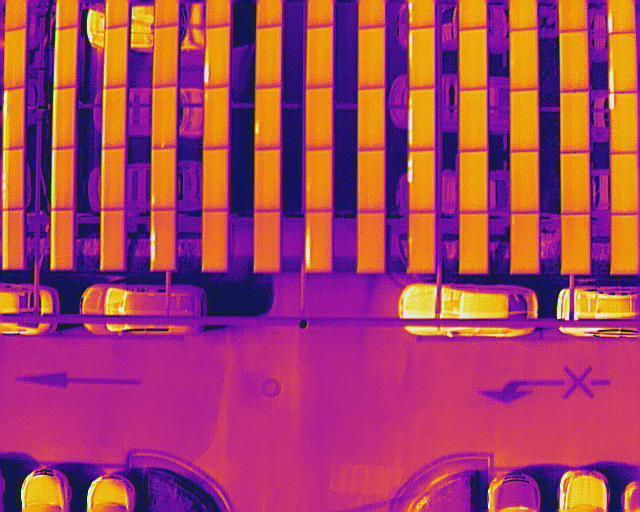Cell: (254, 84, 280, 151)
No-Anomaly: (510, 151, 540, 214), (509, 27, 538, 91), (358, 149, 386, 215), (560, 152, 589, 215), (510, 212, 539, 274), (459, 151, 487, 214), (610, 153, 638, 216), (510, 90, 538, 152), (561, 213, 589, 275), (459, 88, 486, 152), (561, 92, 589, 153), (560, 31, 588, 92), (254, 209, 281, 272), (459, 27, 486, 90), (150, 147, 176, 212), (306, 148, 332, 213), (358, 88, 385, 150), (610, 214, 637, 276), (357, 212, 384, 273), (203, 149, 229, 212), (306, 25, 332, 88), (307, 85, 332, 150), (153, 23, 178, 88), (202, 212, 229, 272), (459, 212, 486, 272), (409, 211, 435, 273), (358, 28, 384, 90), (204, 86, 229, 150), (409, 26, 434, 90), (100, 209, 126, 270), (102, 85, 126, 150), (52, 85, 76, 150), (104, 24, 128, 89), (256, 25, 281, 86), (254, 151, 279, 210), (101, 149, 125, 210), (152, 86, 175, 149), (54, 25, 77, 88), (51, 148, 73, 209), (3, 210, 25, 270), (4, 29, 26, 88), (50, 212, 72, 269), (3, 148, 23, 209)
Unclassified: (408, 151, 436, 214), (609, 94, 638, 154), (409, 88, 436, 151), (609, 32, 636, 93), (150, 208, 175, 272), (204, 25, 229, 87), (305, 211, 330, 271), (3, 88, 25, 148)
